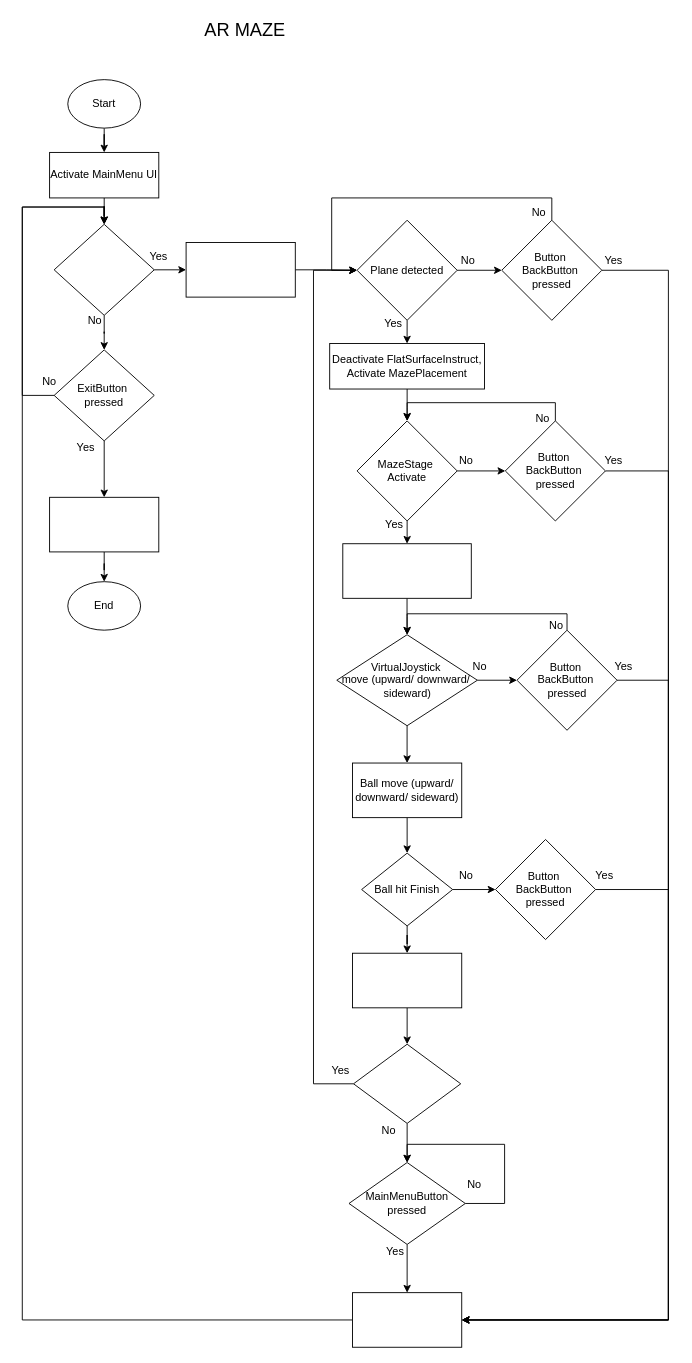
This 692x1363 diagram has some shape labels left out. The centre of each missing label's shape, as x and y in pixels:
"Activate MainMenu UI, deactivate all UI" belongs at (407,1319).
"Activate Maze UI, deactivate MainMenu" belongs at (240,269).
"Activate VirtualJoystick" belongs at (406,570).
"Activate Win UI, Deactivate Maze UI" belongs at (407,980).
"Button MazeButton pressed" belongs at (103,269).
"Exit AR_Maze" belongs at (104,524).
"TryAgainButton pressed" belongs at (407,1083).
